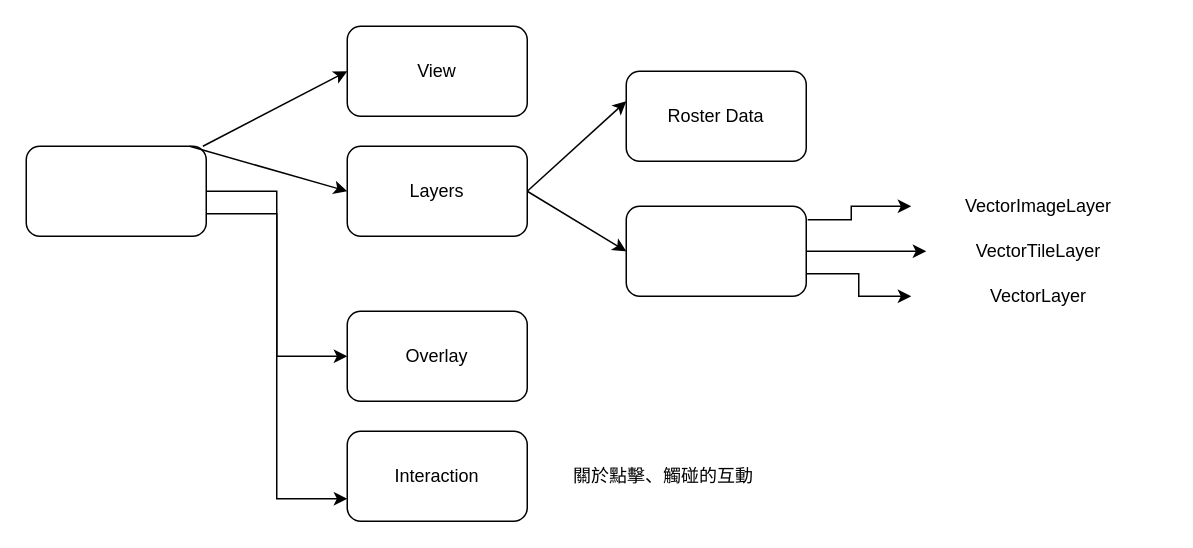
Some shapes in this 1193 by 548 pixel diagram are drawn without their labels. Here are the shapes that lost their labels. From the top down, the box of each, then its label:
(25, 145, 206, 236): Map
(625, 205, 806, 296): Vector Data
